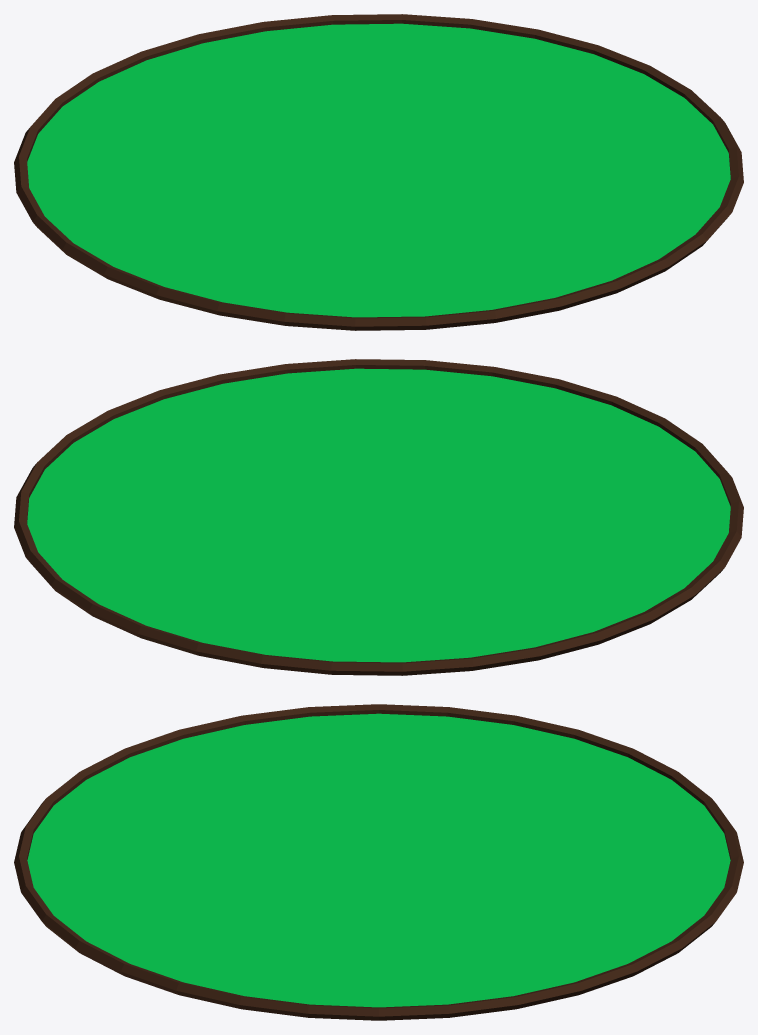
Rendered from floor.glb.
The picture shows the model from 3 angles, top to bottom: view 1: azimuth 30°, elevation 25°; view 2: azimuth 150°, elevation 25°; view 3: azimuth 270°, elevation 25°; orthographic projection.
Visible parts, largest first — view 1: Circle, Torus; view 2: Circle, Torus; view 3: Circle, Torus.
Part boxes in pixels (<box>): Circle: <box>27,23,730,317</box>; Torus: <box>14,14,743,330</box>; Circle: <box>27,368,730,662</box>; Torus: <box>14,359,743,675</box>; Circle: <box>27,713,730,1007</box>; Torus: <box>14,704,743,1020</box>.
Size of the model in its own units: 51 by 0.9511 by 51.
